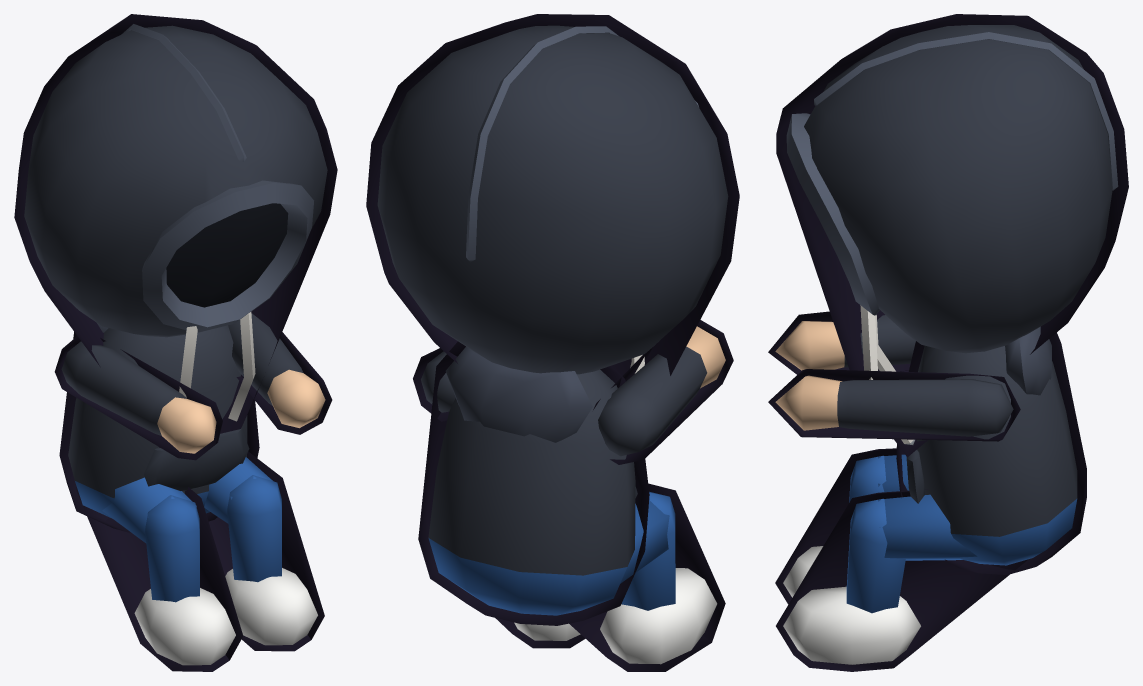
Rendered from figur_kapuze_sitzend.glb.
3 views of the same model, side by side, from view 1: azimuth 30°, elevation 25°; view 2: azimuth 150°, elevation 25°; view 3: azimuth 270°, elevation 25° (orthographic). The views are drawn at different scales.
Visible parts, largest first — view 1: kopf, bein_r, koerper, bein_l, arm_r, arm_l; view 2: kopf, koerper, bein_r, arm_r, arm_l, bein_l; view 3: kopf, koerper, bein_l, arm_l, bein_r, arm_r.
Part boxes in pixels (x1,y1,x2,y2): kopf: [14, 14, 337, 447]; bein_r: [76, 477, 243, 671]; koerper: [59, 323, 259, 532]; bein_l: [204, 451, 324, 651]; arm_r: [54, 336, 222, 460]; arm_l: [228, 313, 332, 434]; kopf: [366, 14, 739, 375]; koerper: [418, 341, 649, 625]; bein_r: [561, 483, 725, 671]; arm_r: [593, 320, 733, 464]; arm_l: [413, 348, 455, 421]; bein_l: [495, 618, 585, 648]; kopf: [776, 14, 1128, 457]; koerper: [896, 326, 1086, 574]; bein_l: [776, 489, 1028, 671]; arm_l: [768, 369, 1020, 441]; bein_r: [775, 448, 909, 604]; arm_r: [768, 311, 915, 374].
Size of the model in its own units: 0.6309 by 1.2 by 0.6393.
